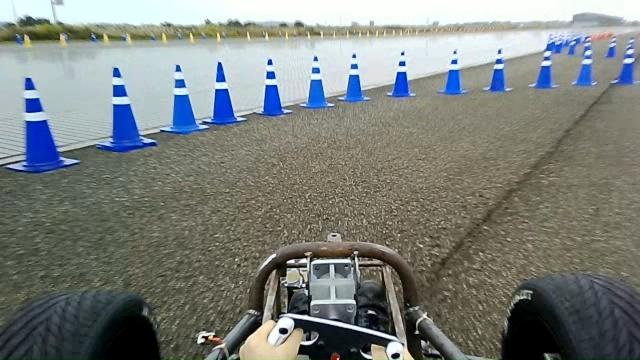blue cone: (5, 76, 80, 173), (95, 66, 157, 152), (160, 64, 210, 134), (201, 60, 247, 124), (254, 58, 292, 116), (299, 56, 335, 108), (337, 52, 371, 102), (437, 48, 468, 94), (386, 50, 416, 97), (482, 48, 513, 92)
